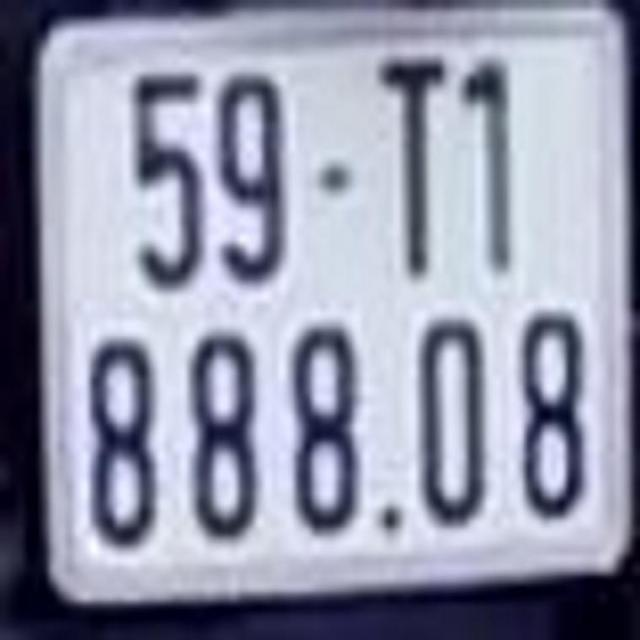0: (414, 312, 492, 530)
1: (456, 49, 524, 274)
5: (132, 70, 208, 284)
8: (182, 322, 262, 543), (286, 314, 365, 537), (84, 328, 158, 551), (517, 308, 591, 524)
9: (214, 66, 290, 285)
T: (373, 48, 452, 278)
